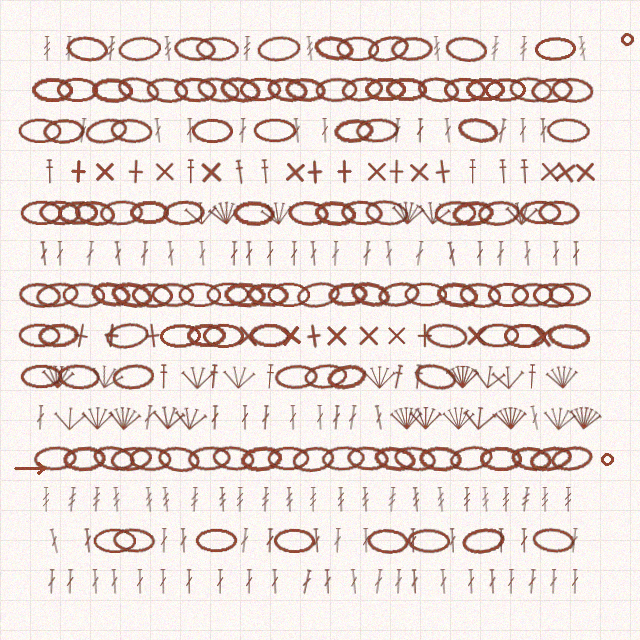chain: (115, 73, 162, 107), (412, 360, 459, 394), (365, 32, 411, 65), (455, 114, 501, 147), (83, 115, 130, 147), (527, 443, 574, 475), (348, 278, 393, 311), (195, 74, 241, 106), (295, 279, 342, 310), (376, 279, 422, 310), (104, 320, 150, 351), (91, 443, 137, 474), (448, 443, 494, 474), (549, 443, 595, 474), (460, 525, 506, 556), (325, 361, 369, 393), (218, 74, 263, 105), (109, 279, 154, 310), (34, 280, 80, 310), (392, 444, 438, 474), (312, 33, 356, 64), (89, 279, 133, 310), (265, 75, 310, 105), (424, 321, 469, 351), (546, 321, 591, 351), (156, 444, 201, 474), (291, 444, 336, 474), (372, 444, 417, 474), (509, 444, 554, 474), (256, 34, 302, 63), (508, 75, 554, 104), (444, 34, 488, 64), (73, 198, 117, 228), (109, 444, 153, 474), (416, 75, 461, 104), (364, 198, 409, 227), (303, 362, 348, 391), (211, 444, 256, 473), (531, 526, 576, 555), (65, 34, 109, 63), (340, 75, 384, 104), (435, 280, 479, 309), (111, 362, 155, 391), (239, 444, 283, 473), (117, 35, 162, 63), (550, 76, 595, 104), (109, 117, 154, 145), (173, 35, 217, 63), (145, 76, 189, 104), (530, 76, 574, 104), (313, 199, 357, 227), (18, 281, 62, 309), (458, 281, 502, 309), (366, 527, 410, 555), (99, 199, 144, 226), (284, 76, 327, 104), (287, 199, 330, 227), (451, 199, 494, 227), (477, 199, 520, 227), (173, 76, 217, 103), (355, 117, 399, 144), (546, 117, 590, 144), (38, 199, 82, 226), (340, 199, 384, 226), (33, 445, 77, 472), (62, 445, 106, 472), (187, 445, 231, 472), (321, 445, 365, 472), (418, 445, 462, 472), (112, 527, 156, 554), (333, 117, 375, 145), (162, 199, 205, 226), (537, 199, 580, 226), (223, 281, 266, 308), (37, 322, 80, 349), (57, 363, 100, 390), (346, 445, 389, 472), (195, 36, 239, 62), (274, 364, 318, 390), (327, 281, 369, 308), (390, 36, 433, 62), (534, 36, 577, 62), (315, 77, 358, 103), (484, 77, 527, 103), (42, 118, 85, 144), (232, 200, 275, 226), (434, 200, 477, 226), (62, 282, 105, 308), (151, 282, 194, 308), (246, 282, 289, 308), (511, 282, 554, 308), (159, 323, 202, 349), (129, 446, 172, 472), (407, 528, 450, 554), (18, 118, 62, 143), (91, 77, 133, 103), (57, 200, 99, 226), (131, 282, 173, 308), (532, 282, 574, 308), (336, 36, 379, 61), (56, 77, 99, 102), (239, 77, 282, 102), (443, 77, 486, 102), (253, 118, 296, 143), (519, 200, 562, 225), (178, 282, 221, 307), (206, 282, 249, 307), (267, 282, 310, 307), (404, 282, 447, 307), (548, 282, 591, 307), (18, 323, 61, 348), (476, 323, 519, 348), (503, 323, 546, 348), (20, 364, 63, 389), (267, 446, 310, 471), (479, 446, 522, 471), (93, 528, 136, 553), (195, 528, 238, 553), (31, 77, 73, 102), (364, 77, 406, 102), (385, 77, 427, 102), (191, 118, 233, 143), (20, 200, 62, 225), (487, 282, 529, 307), (202, 323, 244, 348), (249, 323, 291, 348), (273, 528, 315, 553), (465, 77, 506, 102), (129, 200, 170, 225), (186, 323, 227, 348)
double: (48, 528, 61, 554), (300, 569, 313, 595), (496, 118, 508, 144), (446, 241, 458, 267), (529, 405, 541, 431), (373, 405, 385, 430), (77, 118, 88, 143), (414, 241, 425, 266), (143, 405, 154, 430), (347, 405, 358, 430), (239, 528, 250, 553), (373, 569, 384, 594), (153, 118, 163, 143), (292, 118, 302, 143), (392, 118, 402, 143), (443, 118, 453, 143), (39, 241, 49, 266), (85, 241, 95, 266), (113, 241, 123, 266), (166, 241, 176, 266), (362, 241, 372, 266), (384, 241, 394, 266), (83, 528, 93, 553), (569, 528, 579, 553), (349, 569, 359, 594), (527, 569, 537, 594), (238, 118, 247, 143), (539, 118, 548, 143), (140, 241, 149, 266), (198, 241, 207, 266), (309, 241, 318, 266), (331, 241, 340, 266), (496, 241, 505, 266), (523, 241, 532, 266), (36, 405, 45, 430), (261, 405, 270, 430), (332, 405, 341, 430), (179, 528, 188, 553), (312, 528, 321, 553), (333, 528, 342, 553), (448, 528, 457, 553), (47, 569, 56, 594), (91, 569, 100, 594), (110, 569, 119, 594), (323, 569, 332, 594), (394, 569, 403, 594), (410, 569, 419, 594), (439, 569, 448, 594), (488, 569, 497, 594), (549, 569, 558, 594), (186, 118, 194, 143), (321, 118, 329, 143), (416, 118, 424, 143), (519, 118, 527, 143), (56, 241, 64, 266), (230, 241, 238, 266), (245, 241, 253, 266), (266, 241, 274, 266), (290, 241, 298, 266), (476, 241, 484, 266), (552, 241, 560, 266), (572, 241, 580, 266), (211, 405, 219, 430), (241, 405, 249, 430), (289, 405, 297, 430), (316, 405, 324, 430), (160, 528, 168, 553), (266, 528, 274, 553), (362, 528, 370, 553), (409, 528, 417, 553), (497, 528, 505, 553), (520, 528, 528, 553), (66, 569, 74, 594), (136, 569, 144, 594), (159, 569, 167, 594), (185, 569, 193, 594), (216, 569, 224, 594), (245, 569, 253, 594), (271, 569, 279, 594), (467, 569, 475, 594), (507, 569, 515, 594), (571, 569, 579, 594)
fan: (88, 360, 126, 393), (207, 198, 243, 227), (259, 198, 295, 227), (416, 198, 452, 227), (471, 362, 507, 391), (567, 403, 603, 432), (107, 404, 142, 432), (173, 404, 208, 432), (462, 404, 497, 432), (542, 404, 577, 432), (151, 404, 186, 431), (184, 199, 218, 226), (391, 199, 425, 226), (41, 363, 75, 390), (222, 363, 256, 390), (545, 363, 579, 390), (505, 200, 539, 226), (491, 364, 525, 390), (53, 405, 87, 431), (181, 364, 214, 390), (363, 364, 396, 389), (446, 364, 479, 389), (81, 405, 114, 430), (390, 405, 423, 430), (409, 405, 442, 430), (442, 405, 475, 430), (494, 405, 527, 430)
half_double: (391, 364, 405, 390), (234, 159, 246, 185), (412, 364, 424, 390), (519, 159, 530, 184), (208, 364, 219, 389), (260, 159, 270, 184), (498, 159, 508, 184), (265, 364, 275, 389), (527, 364, 537, 389), (45, 159, 54, 184), (186, 159, 195, 184), (468, 159, 477, 184), (159, 364, 168, 389)
noise: (13, 461, 48, 475), (619, 31, 635, 47), (600, 452, 615, 467)
single: (66, 321, 95, 350), (551, 158, 579, 186), (300, 322, 328, 350), (528, 322, 556, 350), (429, 158, 456, 185), (98, 322, 125, 349), (139, 322, 166, 349), (277, 322, 304, 349), (198, 159, 224, 185), (282, 159, 308, 185), (302, 159, 328, 185), (406, 159, 432, 185), (537, 159, 563, 185), (572, 159, 598, 185), (235, 323, 261, 349), (66, 159, 91, 184), (92, 159, 117, 184), (123, 159, 148, 184), (152, 159, 177, 184), (332, 159, 357, 184), (364, 159, 389, 184), (384, 159, 409, 184), (324, 323, 349, 348), (356, 323, 381, 348), (384, 323, 409, 348), (412, 323, 437, 348), (464, 323, 489, 348)
treble: (577, 36, 588, 61), (520, 487, 531, 512), (106, 36, 116, 61), (163, 36, 173, 61), (305, 36, 315, 61), (432, 36, 442, 61), (490, 36, 500, 61), (67, 487, 77, 512), (144, 487, 154, 512), (161, 487, 171, 512), (387, 487, 397, 512), (411, 487, 421, 512), (436, 487, 446, 512), (519, 36, 528, 61), (92, 487, 101, 512), (112, 487, 121, 512), (190, 487, 199, 512), (218, 487, 227, 512), (261, 487, 270, 512), (285, 487, 294, 512), (361, 487, 370, 512), (481, 487, 490, 512), (43, 36, 51, 61), (65, 36, 73, 61), (243, 36, 251, 61), (42, 487, 50, 512), (236, 487, 244, 512), (309, 487, 317, 512), (337, 487, 345, 512), (463, 487, 471, 512), (502, 487, 510, 512), (541, 487, 549, 512), (564, 487, 572, 512)
